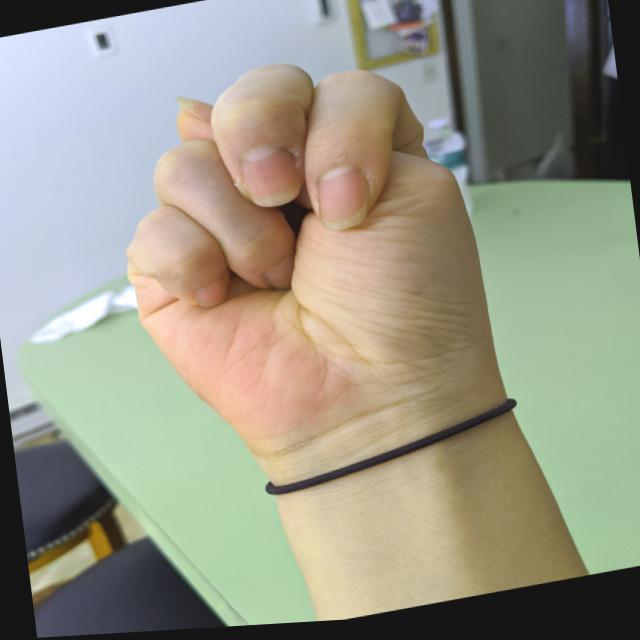N: (88, 23, 515, 495)
